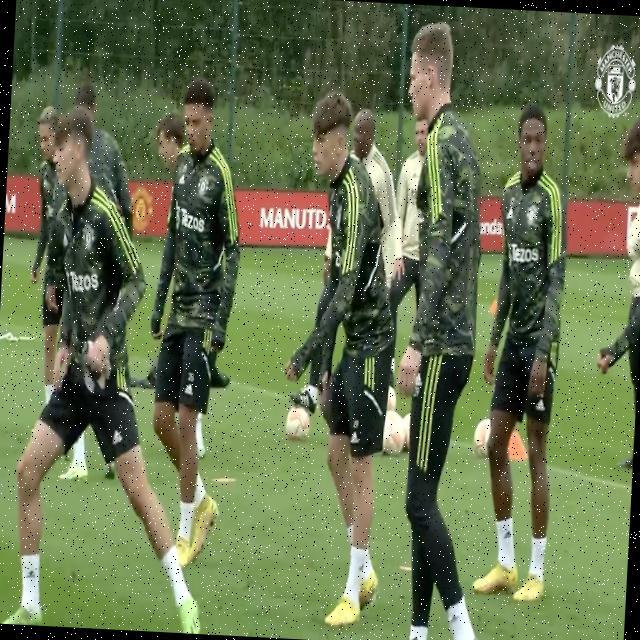Adidas: (535, 396, 547, 413), (26, 566, 38, 583), (112, 426, 122, 446), (351, 430, 362, 447), (183, 381, 194, 396), (178, 173, 187, 187), (507, 205, 515, 220), (504, 528, 513, 540)
